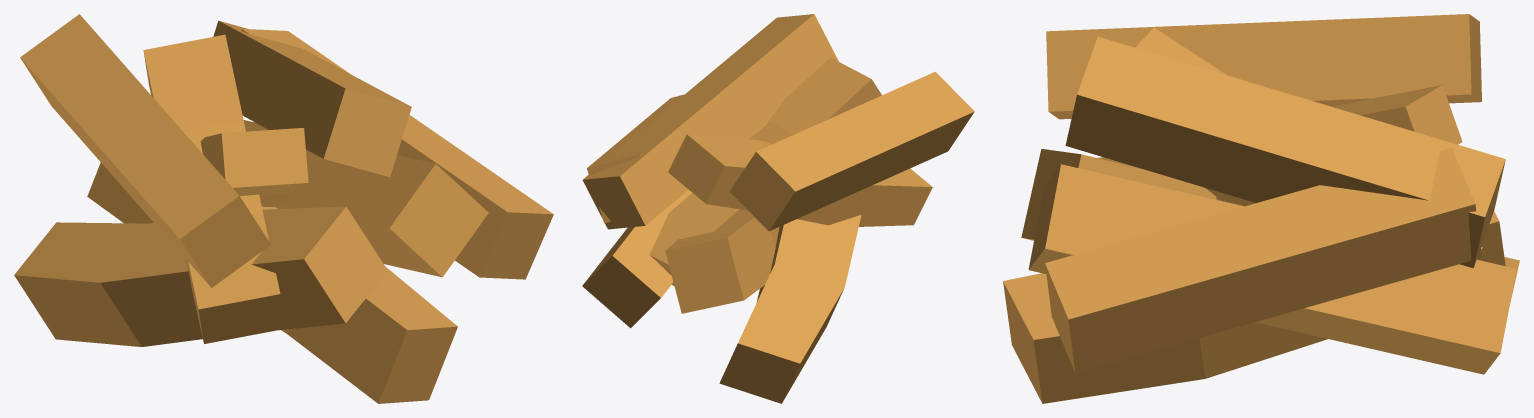
Rendered from FriesCooked.glb.
3 renders of one model, left to right at view 1: azimuth 30°, elevation 25°; view 2: azimuth 150°, elevation 25°; view 3: azimuth 270°, elevation 25°, orthographic. The views are drawn at different scales.
Visible parts, largest first — view 1: Cube.112; view 2: Cube.112; view 3: Cube.112.
Boxes of the visible parts, x1=… form: Cube.112: x1=14, y1=14, x2=553, y2=403; Cube.112: x1=582, y1=14, x2=974, y2=403; Cube.112: x1=1003, y1=14, x2=1519, y2=403.
Size of the model in its own units: 0.4322 by 0.3721 by 0.4664.
